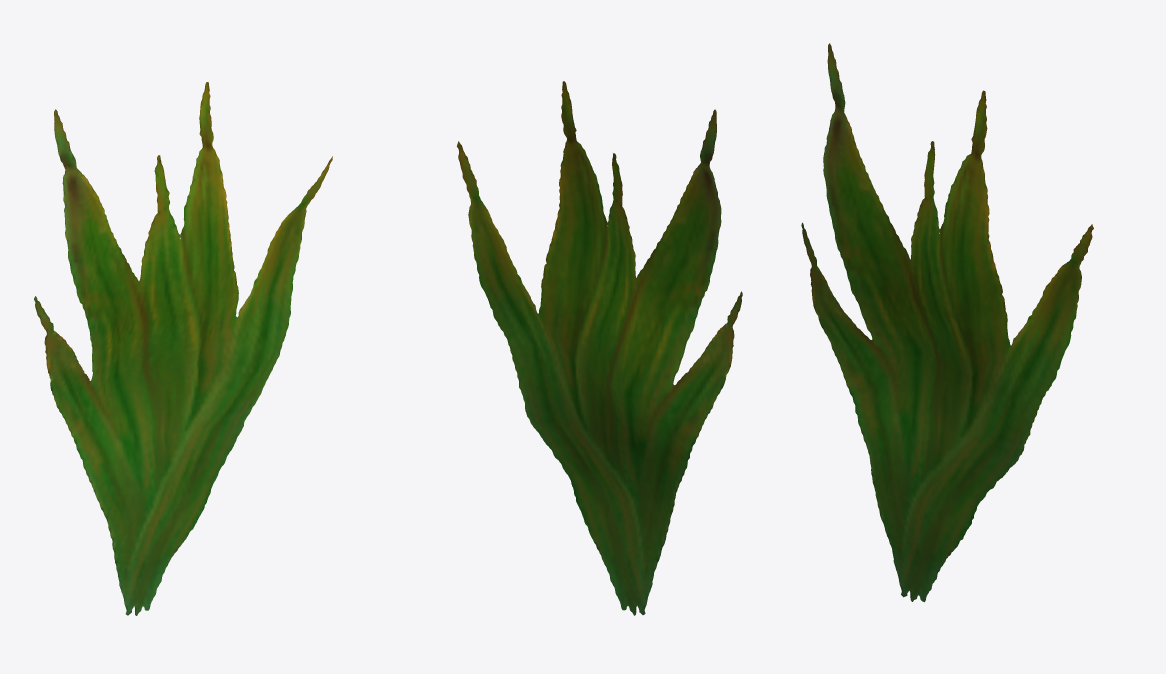
Rendered from GrassClump05.fbx.
3 renders of one model, left to right at view 1: azimuth 30°, elevation 25°; view 2: azimuth 150°, elevation 25°; view 3: azimuth 330°, elevation 25°, orthographic. The views are drawn at different scales.
Parts seen in each view (by area): view 1: GrassClump05; view 2: GrassClump05; view 3: GrassClump05.
Boxes of the visible parts, <box> form: GrassClump05: <box>34,82,332,615</box>; GrassClump05: <box>457,81,742,615</box>; GrassClump05: <box>801,43,1093,602</box>.
Size of the model in its own units: 1.97 by 2.96 by 0.2645.
